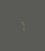seven: (19, 20, 24, 30)
